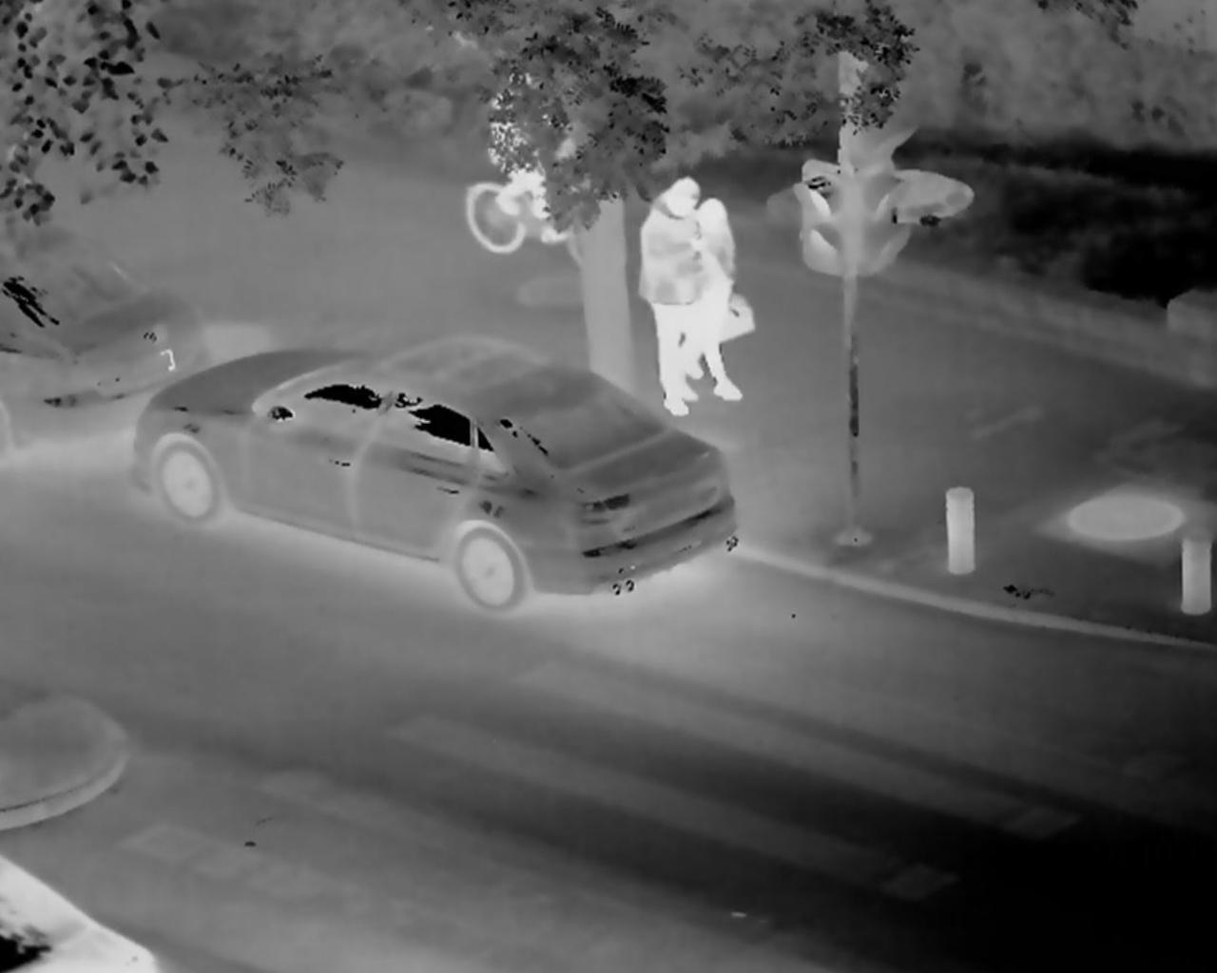person: (485, 72, 588, 223), (640, 181, 700, 415), (701, 200, 763, 404)
